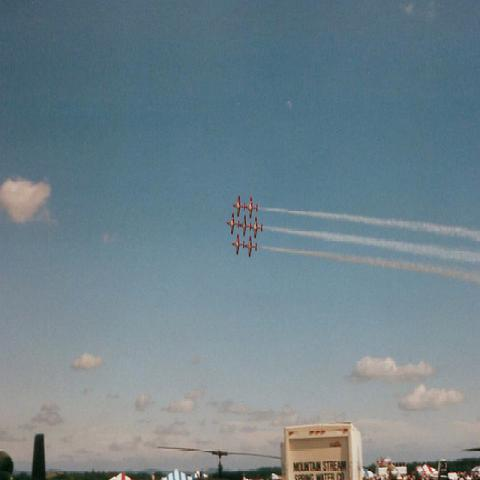truck: (280, 425, 374, 475)
